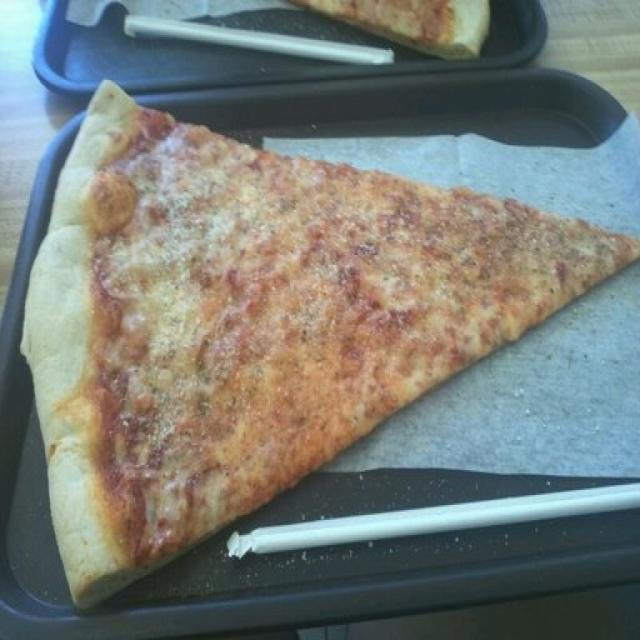Pizza: (26, 82, 640, 610)
